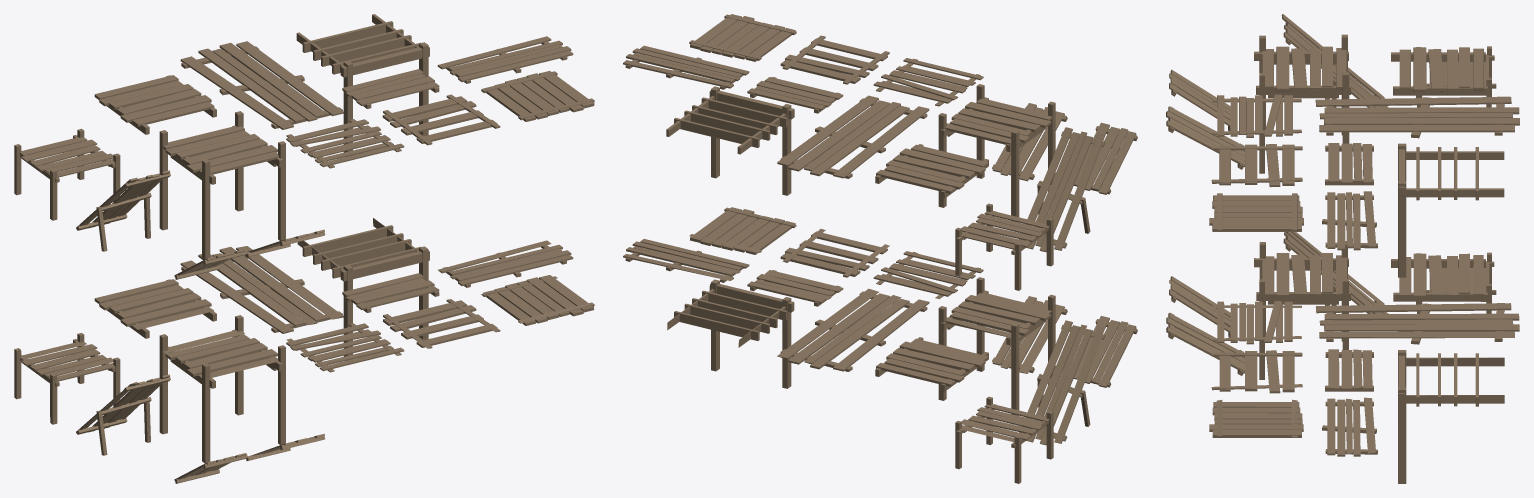
Rendered from Wood_Foundations_A.fbx.
3 renders of one model, left to right at view 1: azimuth 30°, elevation 25°; view 2: azimuth 150°, elevation 25°; view 3: azimuth 270°, elevation 25°, orthographic. The views are drawn at different scales.
Parts seen in each view (by area): view 1: Wood_Platform_1A9, Wood_Platform_1A9.001, Wood_Platform_1A7, Wood_Platform_1A7.001, Wood_Platform_1A8, Wood_Platform_1A8.001, Wood_Platform_1A2, Wood_Platform_1A2.001, Wood_Platform_1A10, Wood_Platform_1A10.001, Wood_Platform_1A1, Wood_Platform_1A1.001 (+12 smaller); view 2: Wood_Platform_1A7, Wood_Platform_1A7.001, Wood_Platform_1A8, Wood_Platform_1A8.001, Wood_Platform_1A9, Wood_Platform_1A9.001, Wood_Ramp_1A3, Wood_Ramp_1A3.001, Wood_Platform_1A2, Wood_Platform_1A10, Wood_Platform_1A10.001, Wood_Platform_1A2.001 (+14 smaller); view 3: Wood_Platform_1A7, Wood_Platform_1A7.001, Wood_Platform_1A9, Wood_Platform_1A9.001, Wood_Platform_1A2, Wood_Platform_1A2.001, Wood_Platform_1A8, Wood_Platform_1A8.001, Wood_Platform_1A1, Wood_Platform_1A1.001, Wood_Platform_1A3, Wood_Platform_1A3.001 (+14 smaller).
Boxes of the visible parts, box(x1,y1,x2,y2) form: Wood_Platform_1A9: box(159, 111, 285, 259); Wood_Platform_1A9.001: box(159, 315, 285, 463); Wood_Platform_1A7: box(180, 41, 343, 129); Wood_Platform_1A7.001: box(180, 246, 343, 333); Wood_Platform_1A8: box(296, 14, 429, 152); Wood_Platform_1A8.001: box(297, 218, 429, 360); Wood_Platform_1A2: box(94, 75, 216, 134); Wood_Platform_1A2.001: box(94, 279, 216, 338); Wood_Platform_1A10: box(14, 128, 120, 220); Wood_Platform_1A10.001: box(14, 333, 120, 424); Wood_Platform_1A1: box(481, 71, 594, 121); Wood_Platform_1A1.001: box(481, 275, 594, 325); Wood_Platform_1A7: box(777, 95, 929, 178); Wood_Platform_1A7.001: box(777, 288, 929, 371); Wood_Platform_1A8: box(666, 86, 794, 195); Wood_Platform_1A8.001: box(667, 279, 794, 388); Wood_Platform_1A9: box(938, 84, 1055, 222); Wood_Platform_1A9.001: box(938, 277, 1055, 415); Wood_Ramp_1A3: box(1019, 127, 1105, 252); Wood_Ramp_1A3.001: box(1019, 320, 1105, 445); Wood_Platform_1A2: box(875, 144, 988, 198); Wood_Platform_1A10: box(955, 203, 1053, 290); Wood_Platform_1A10.001: box(955, 396, 1053, 483); Wood_Platform_1A2.001: box(875, 337, 988, 391); Wood_Platform_1A7: box(1315, 96, 1519, 138); Wood_Platform_1A7.001: box(1315, 303, 1519, 344); Wood_Platform_1A9: box(1254, 34, 1351, 173); Wood_Platform_1A9.001: box(1254, 241, 1350, 379); Wood_Platform_1A2: box(1391, 47, 1488, 95); Wood_Platform_1A2.001: box(1391, 253, 1487, 301); Wood_Platform_1A8: box(1398, 143, 1504, 277); Wood_Platform_1A8.001: box(1398, 350, 1504, 483); Wood_Platform_1A1: box(1209, 193, 1303, 231); Wood_Platform_1A1.001: box(1209, 399, 1303, 437); Wood_Platform_1A3: box(1212, 94, 1301, 137); Wood_Platform_1A3.001: box(1212, 301, 1301, 344).
Size of the model in its own units: 2468 by 1486 by 1554.
